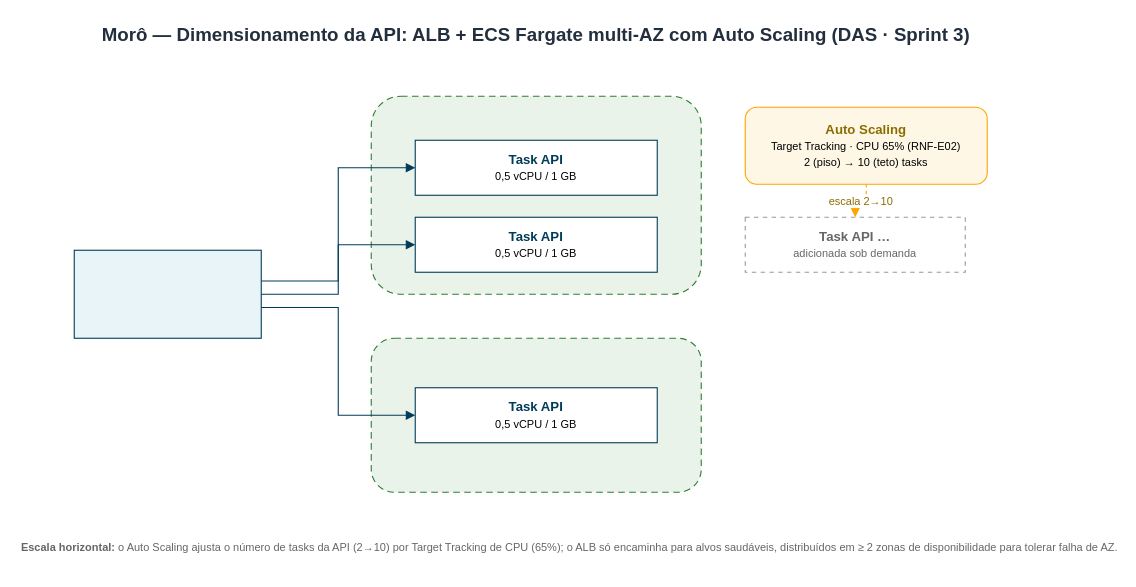
The diagram is 1136 pixels wide and 587 high, and some of its shapes have lost their labels. Each missing label, with the box of its shape:
ALB distribui HTTPS entre alvos saudáveis: (73, 249, 261, 338)
Zona de disponibilidade A: (370, 95, 701, 294)
Zona de disponibilidade B: (370, 337, 701, 492)
